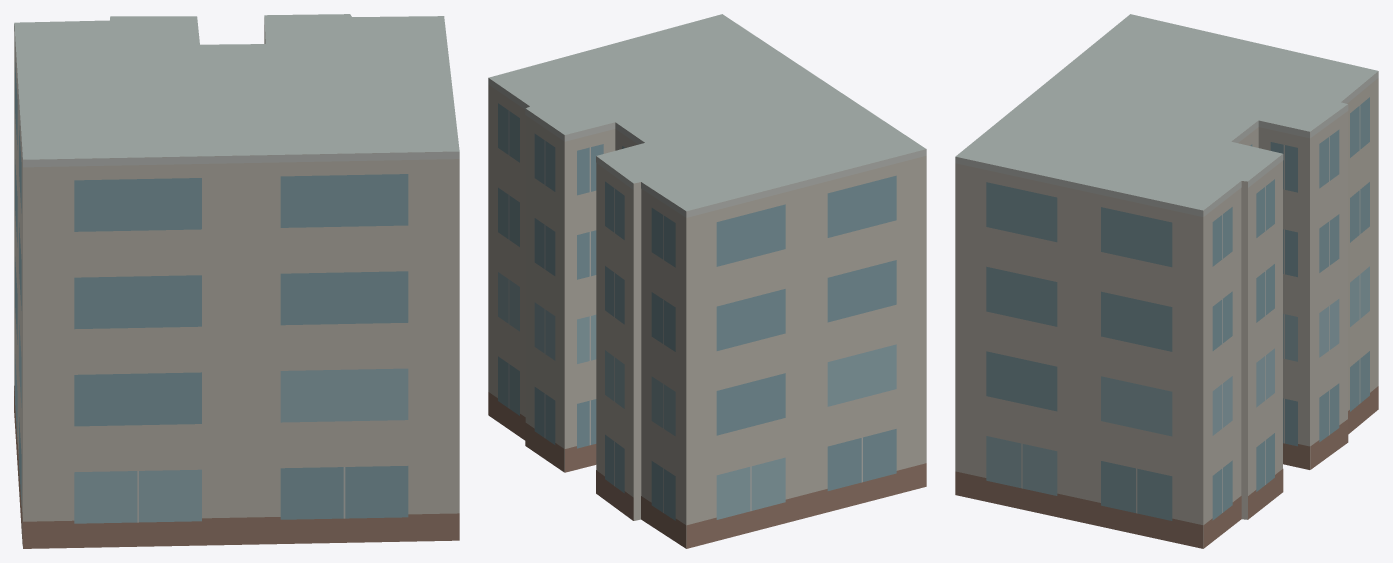
The model's file is survey-upis-32959869.glb.
3 views of the same model, side by side, from view 1: azimuth 30°, elevation 25°; view 2: azimuth 150°, elevation 25°; view 3: azimuth 270°, elevation 25° (orthographic). The views are drawn at different scales.
Parts seen in each view (by area): view 1: survey-upis-32959869.tmp; view 2: survey-upis-32959869.tmp; view 3: survey-upis-32959869.tmp.
Boxes of the visible parts, x1,y1,x2,y2 form: survey-upis-32959869.tmp: [14, 14, 459, 548]; survey-upis-32959869.tmp: [488, 14, 926, 548]; survey-upis-32959869.tmp: [955, 14, 1378, 548].
Bounding box in the file's own units: 15.58 × 12.5 × 14.18.
